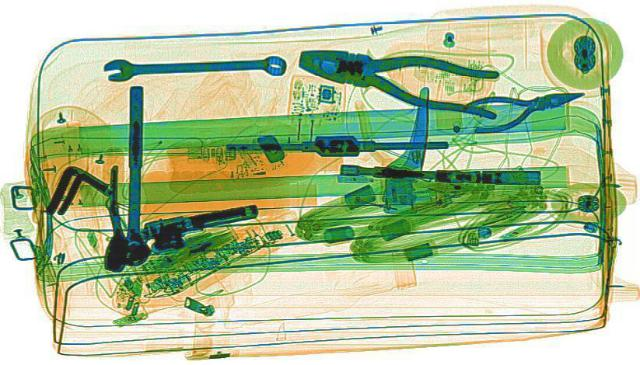Gun: (128, 201, 272, 253)
Pliers: (281, 34, 524, 118), (450, 77, 598, 136)
Wrench: (100, 52, 284, 80)
